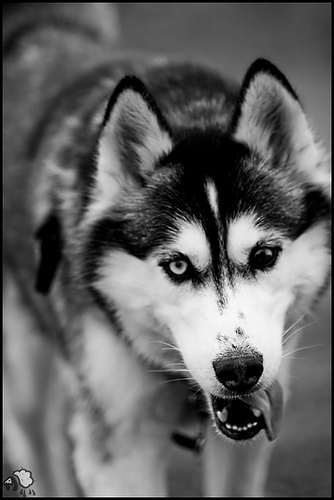dog: (0, 1, 332, 498)
